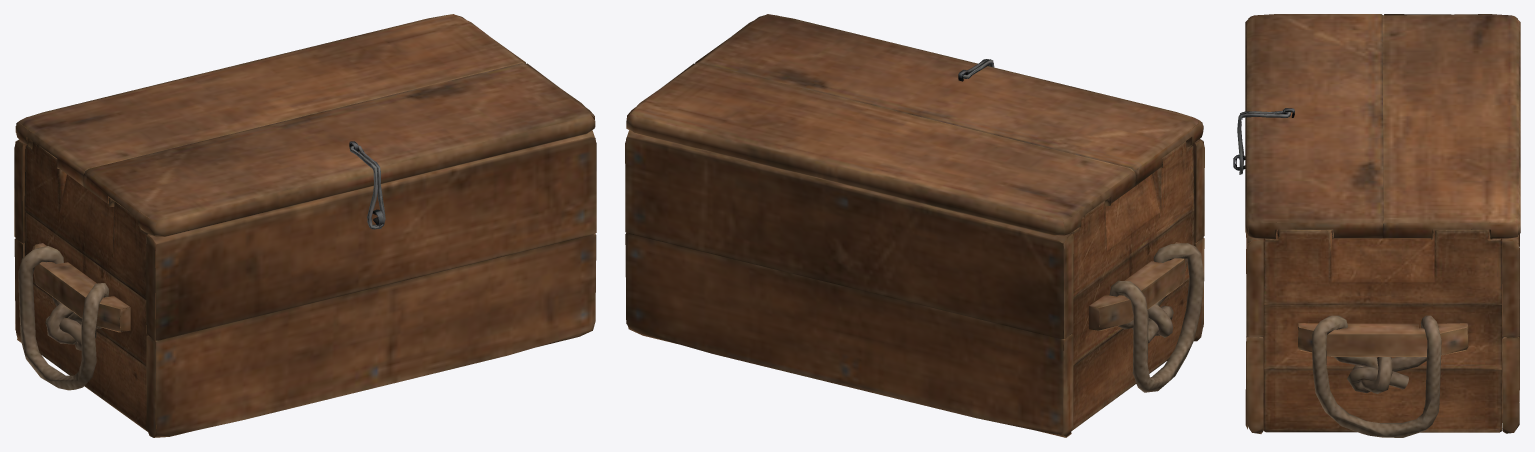
Rendered from distance.fbx.
3 renders of one model, left to right at view 1: azimuth 30°, elevation 25°; view 2: azimuth 150°, elevation 25°; view 3: azimuth 270°, elevation 25°, orthographic. The views are drawn at different scales.
Parts seen in each view (by area): view 1: wooden_crate_01, wooden_crate_01_lid, wooden_crate_01_latch; view 2: wooden_crate_01, wooden_crate_01_lid; view 3: wooden_crate_01_lid, wooden_crate_01, wooden_crate_01_latch.
Part boxes in pixels (<box>): wooden_crate_01: <box>14,130,596,437</box>; wooden_crate_01_lid: <box>15,14,595,237</box>; wooden_crate_01_latch: <box>350,145,385,229</box>; wooden_crate_01: <box>625,130,1204,437</box>; wooden_crate_01_lid: <box>626,14,1203,236</box>; wooden_crate_01_lid: <box>1245,14,1520,239</box>; wooden_crate_01: <box>1233,154,1519,437</box>; wooden_crate_01_latch: <box>1237,110,1290,174</box>.
Bounding box in the file's own units: 82.47 × 34.82 × 40.88.
